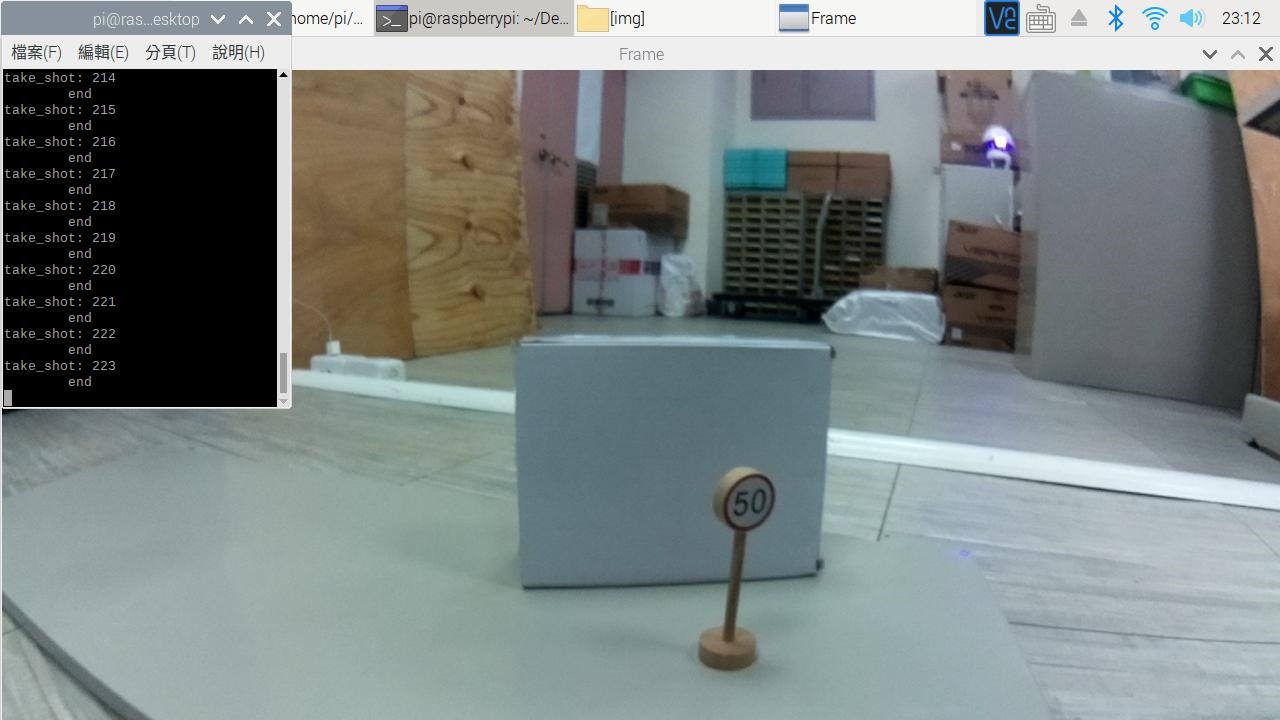Speed50: (703, 462, 790, 551)
